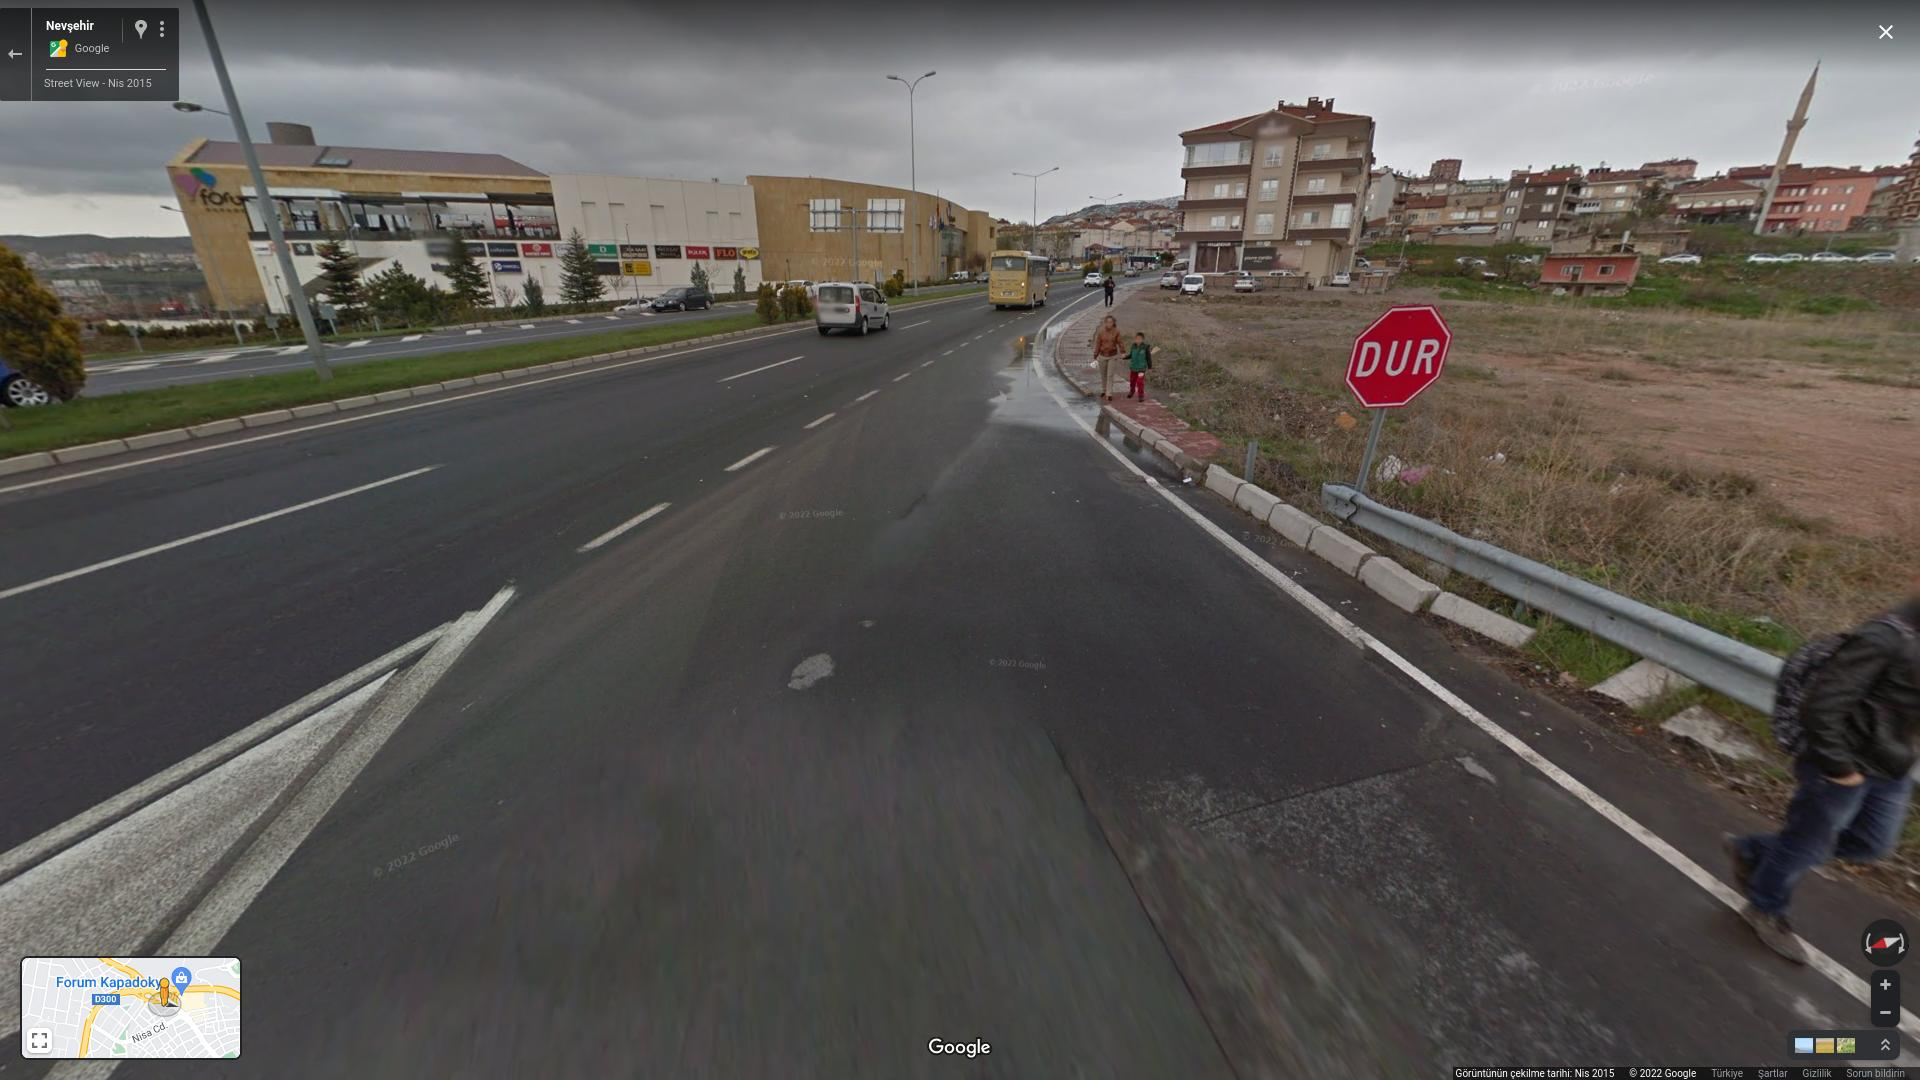stop: (1350, 307, 1445, 407)
